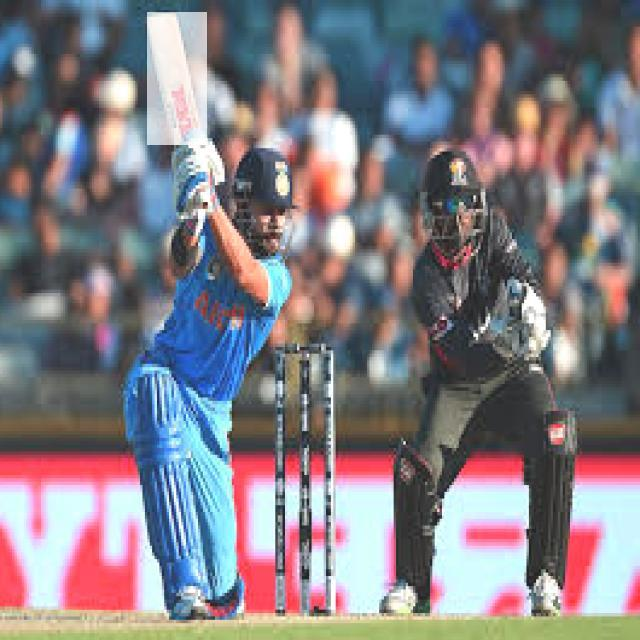bat: (147, 11, 206, 144)
toe: (145, 13, 179, 23)
